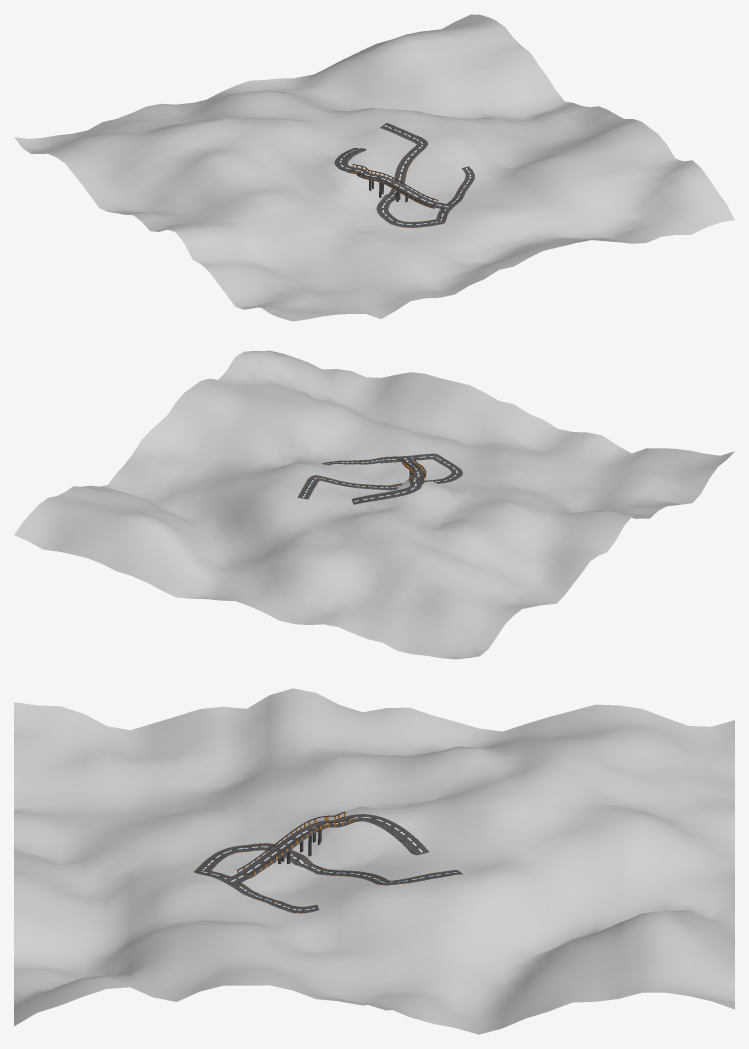
The model's file is Level8B3.fbx.
3 views of the same model, one above another, from view 1: azimuth 30°, elevation 25°; view 2: azimuth 150°, elevation 25°; view 3: azimuth 270°, elevation 25° (orthographic). The views are drawn at different scales.
Visible parts, largest first — view 1: Landscape, Plane.002, Plane.001, Plane.003; view 2: Landscape, Plane.002, Plane.001; view 3: Landscape, Plane.002, Plane.001, Plane.003.
Part boxes in pixels (box(x1,y1,x2,y2)): Landscape: box(14, 14, 734, 321); Plane.002: box(376, 123, 462, 227); Plane.001: box(334, 148, 453, 209); Plane.003: box(347, 164, 438, 208); Landscape: box(14, 350, 734, 659); Plane.002: box(297, 453, 462, 499); Plane.001: box(351, 457, 424, 504); Landscape: box(14, 688, 734, 1034); Plane.002: box(194, 843, 462, 896); Plane.001: box(224, 814, 428, 885); Plane.003: box(237, 811, 354, 878).
Size of the model in its own units: 42888 by 4307 by 42888.
